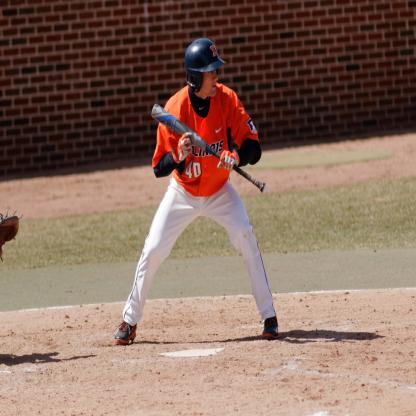Helmet: (184, 40, 226, 91)
